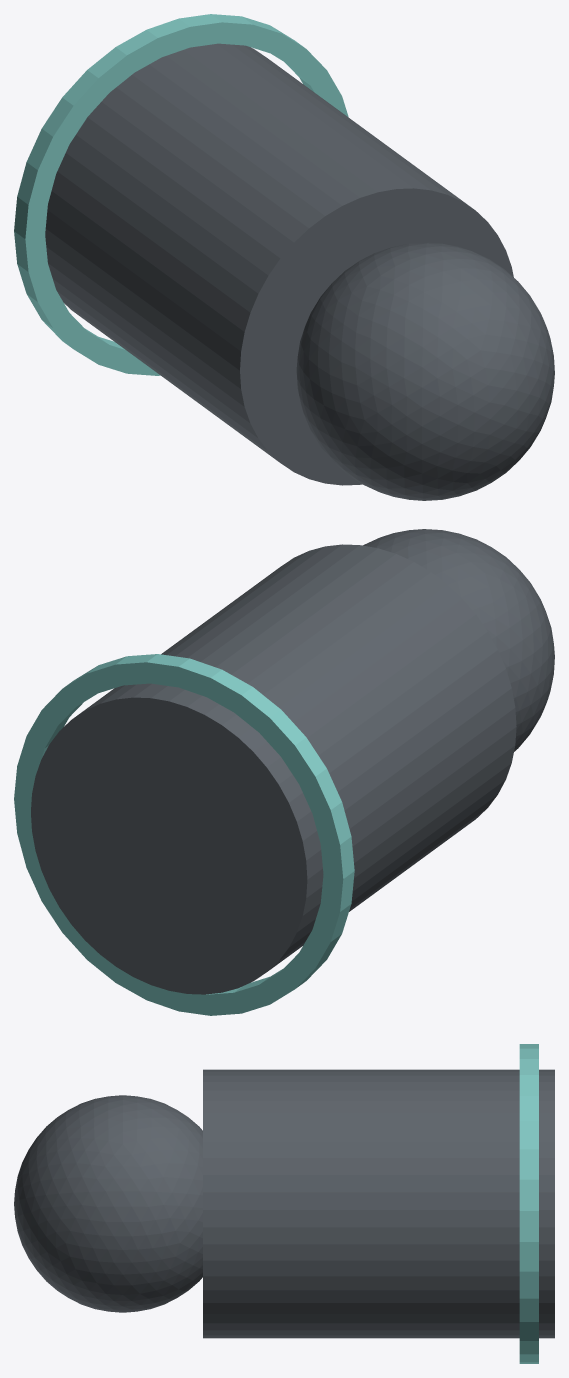
Rendered from siddhant-avatar-placeholder.glb.
3 views of the same model, one above another, from view 1: azimuth 30°, elevation 25°; view 2: azimuth 150°, elevation 25°; view 3: azimuth 270°, elevation 25° (orthographic). The views are drawn at different scales.
Parts seen in each view (by area): view 1: world; view 2: world; view 3: world.
Part boxes in pixels (x1,y1,x2,y2): world: (14,14,554,500); world: (14,529,554,1015); world: (14,1044,554,1363).
Bounding box in the file's own units: 1 × 1 × 1.69.
